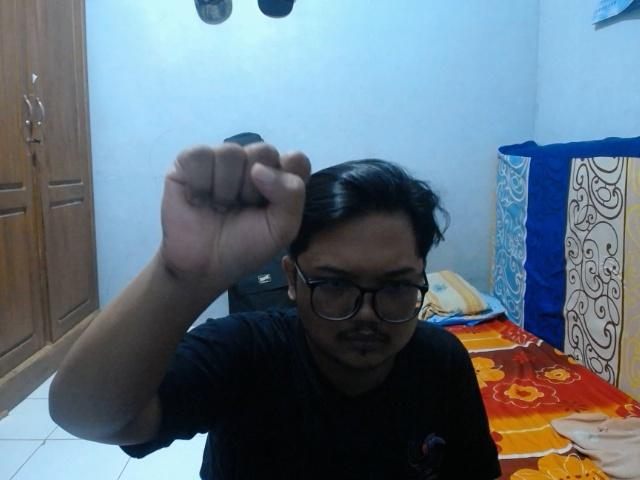Grab: (153, 138, 316, 290)
